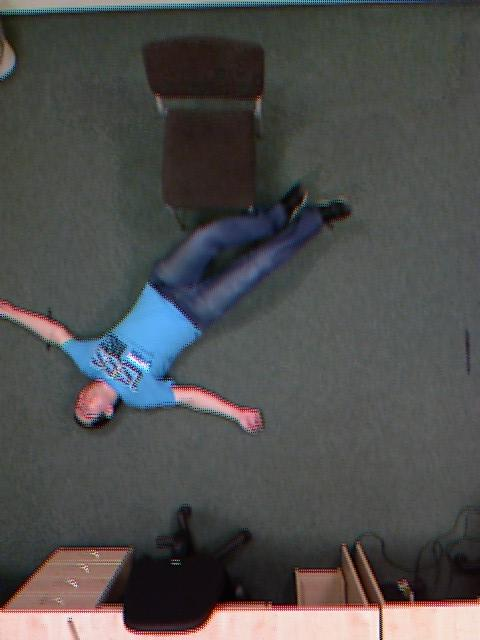fall: (66, 81, 292, 557)
